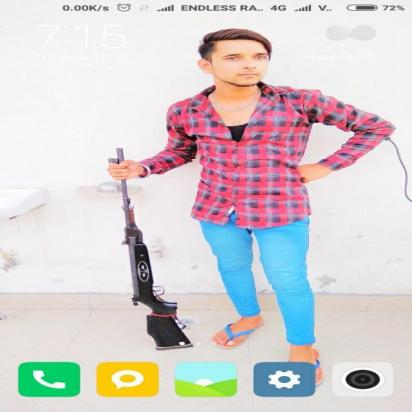Gun: (105, 146, 197, 352)
